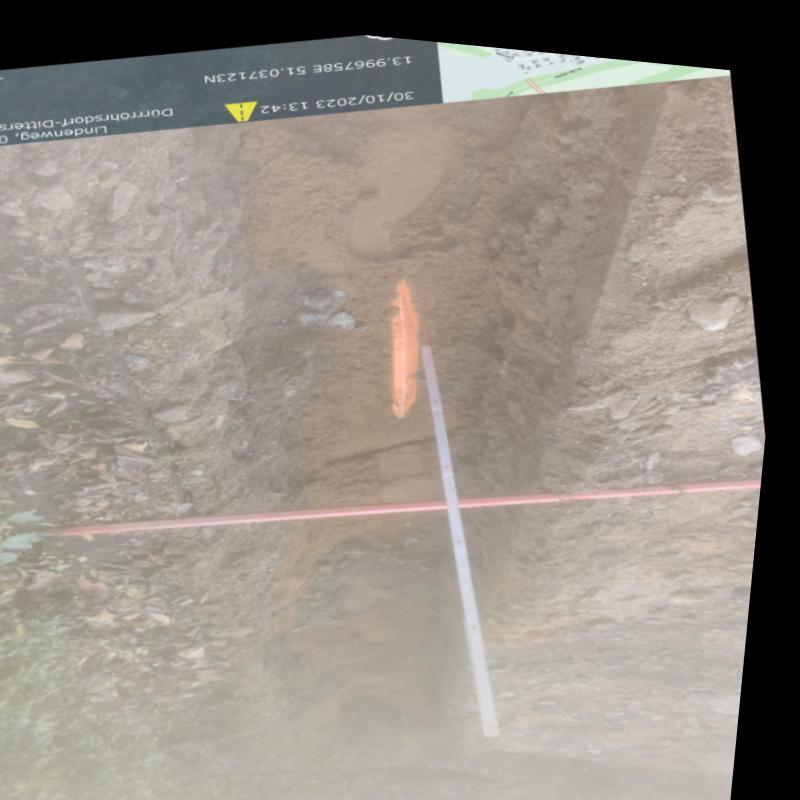Orang-Speednetrohrchen: (391, 269, 425, 409)
